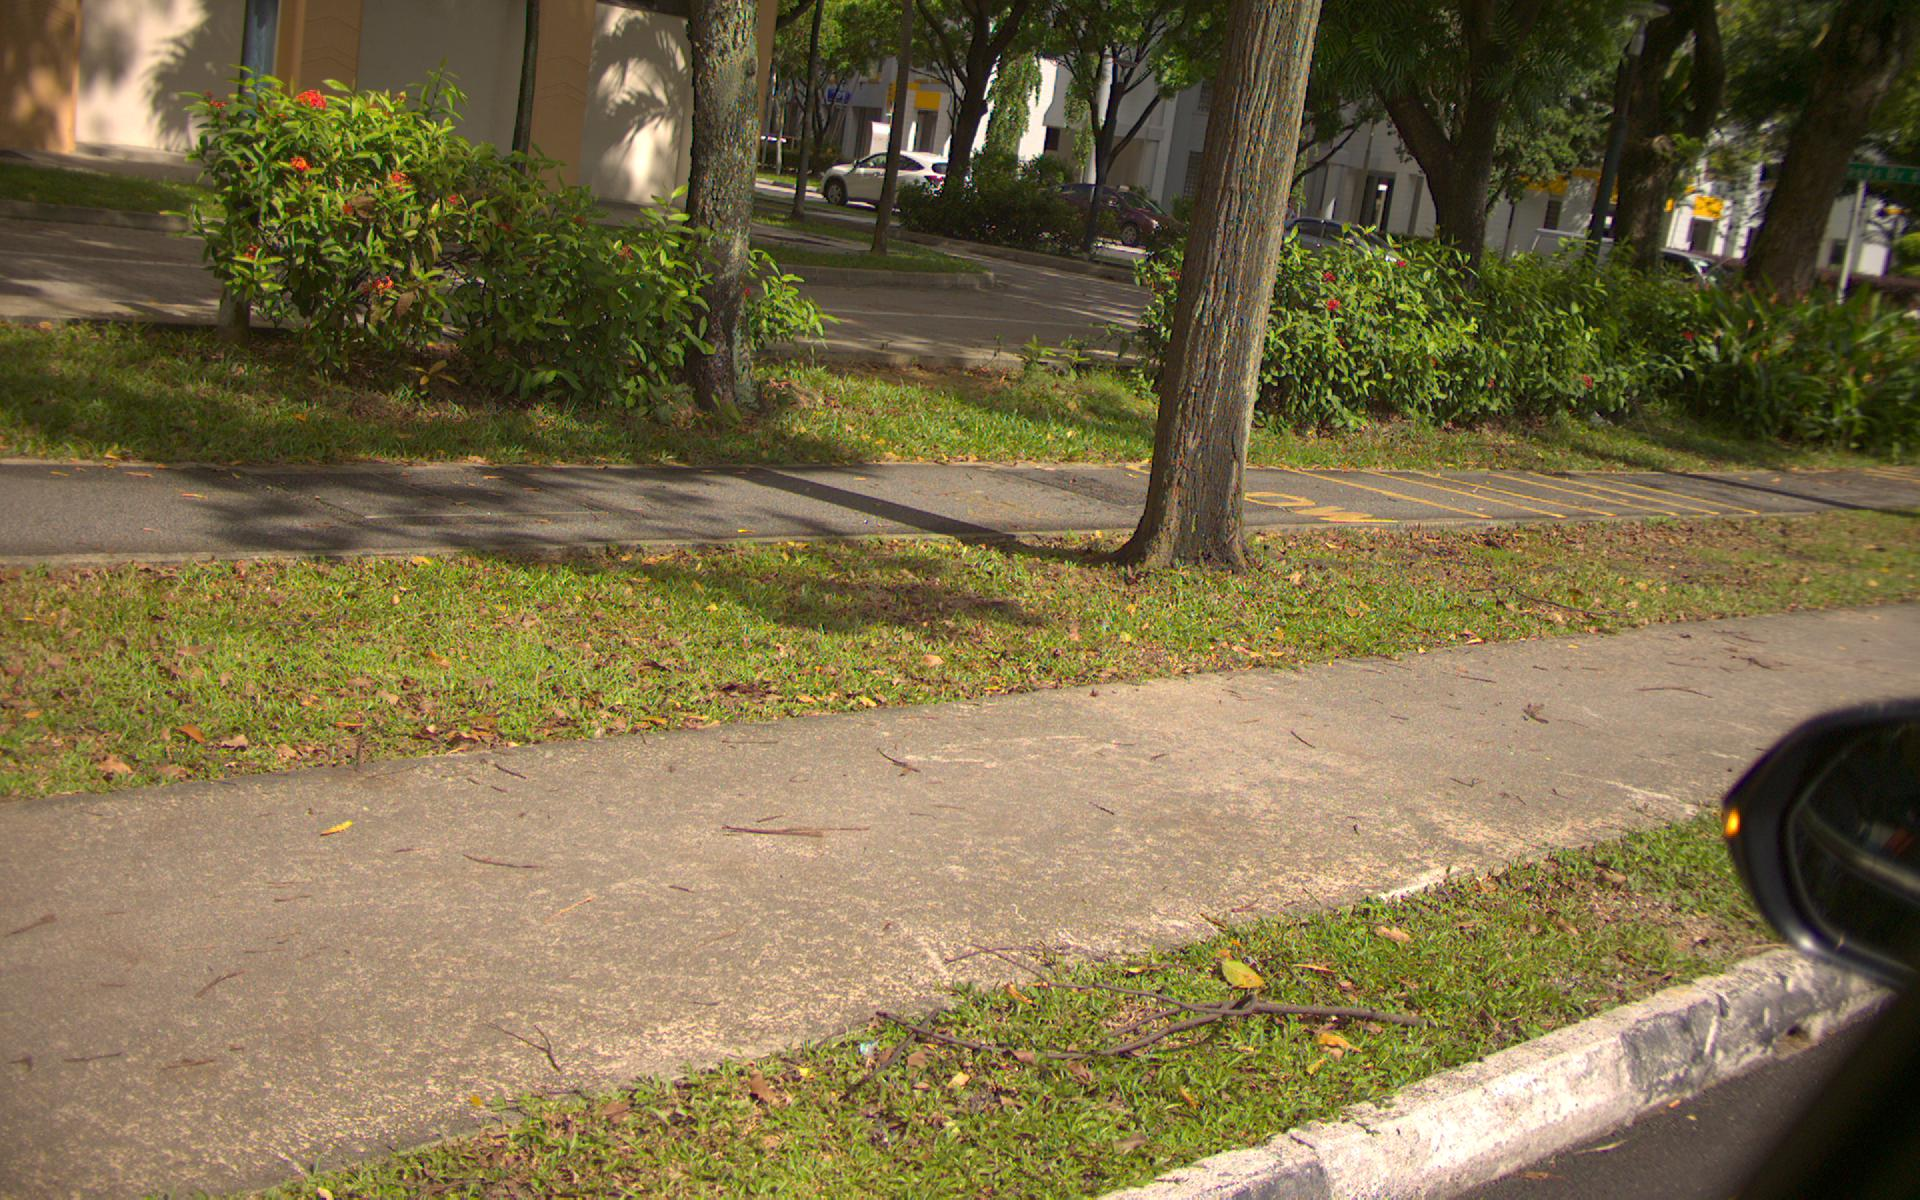pathway_low: (6, 796, 734, 1065), (6, 477, 1104, 536)
road_turf_low: (10, 553, 1082, 700), (4, 317, 665, 473), (1270, 514, 1920, 597)
